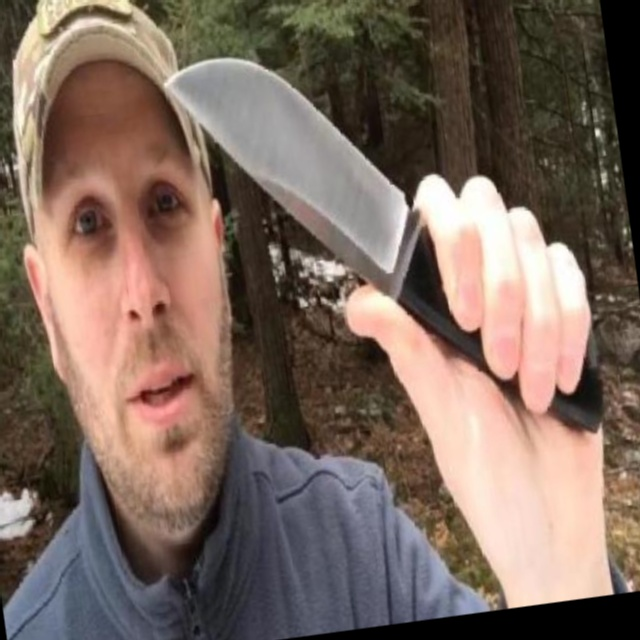Sharp-Object: (163, 14, 608, 483)
